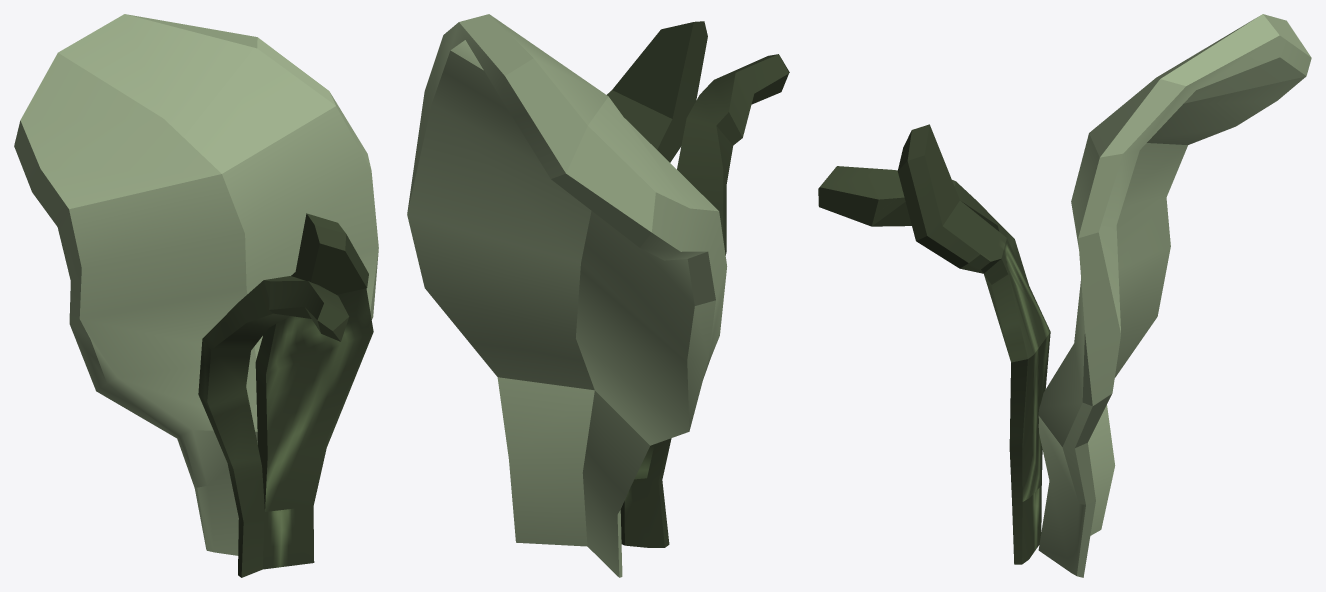
File: EA_Swamp_Leaf_01e.glb
3 renders of one model, left to right at view 1: azimuth 30°, elevation 25°; view 2: azimuth 150°, elevation 25°; view 3: azimuth 270°, elevation 25°, orthographic. The views are drawn at different scales.
Visible parts, largest first — view 1: EA_Swamp_Leaf_01e; view 2: EA_Swamp_Leaf_01e; view 3: EA_Swamp_Leaf_01e.
Part boxes in pixels (x1,y1,x2,y2): EA_Swamp_Leaf_01e: (14,14,378,577); EA_Swamp_Leaf_01e: (407,14,789,577); EA_Swamp_Leaf_01e: (818,14,1311,577).
Size of the model in its own units: 0.8361 by 1.39 by 1.21.
Materials: 1 (1 with a texture image).
